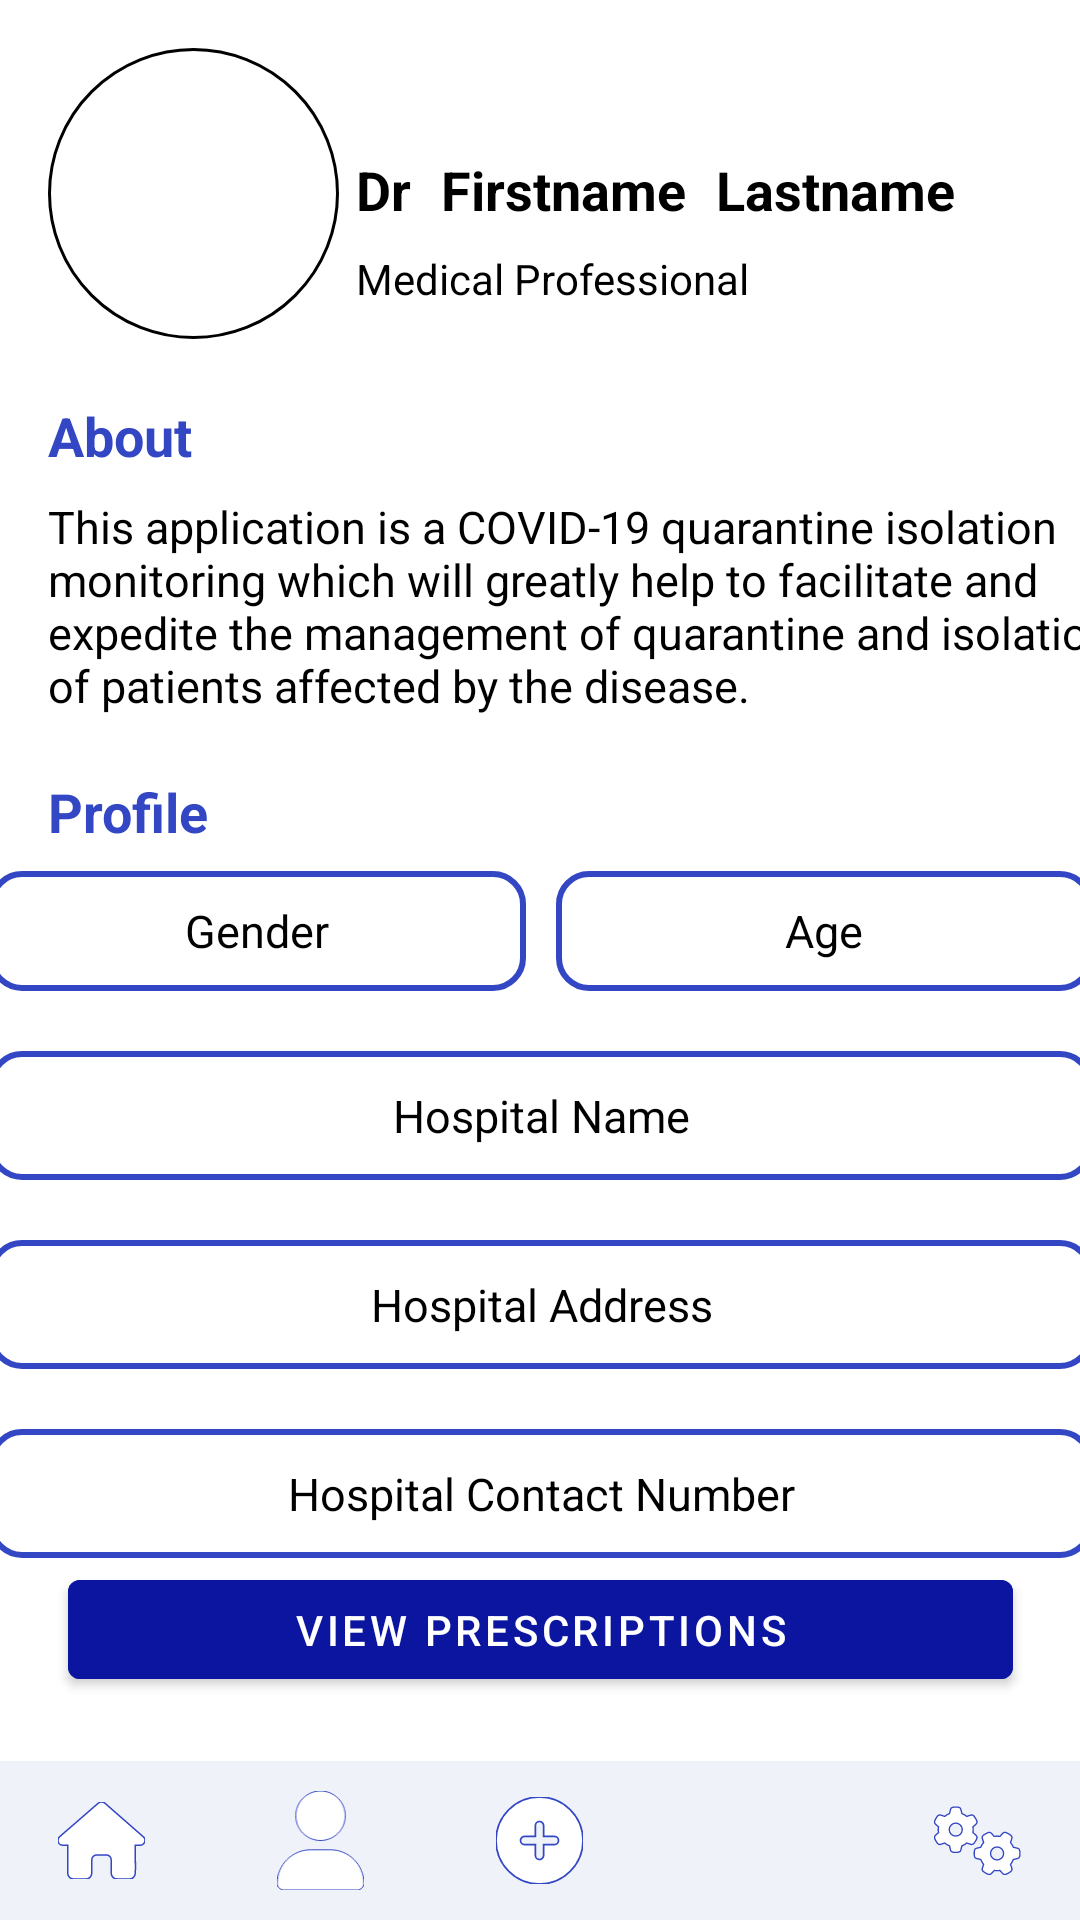

Locate icon controls on the screen. Image size 1080*1920, boxes as (x1, y1, x2, y2).
circle plus: (496, 1797, 583, 1884)
gears: (934, 1806, 1021, 1875)
house: (58, 1802, 145, 1879)
user: (277, 1791, 364, 1890)
